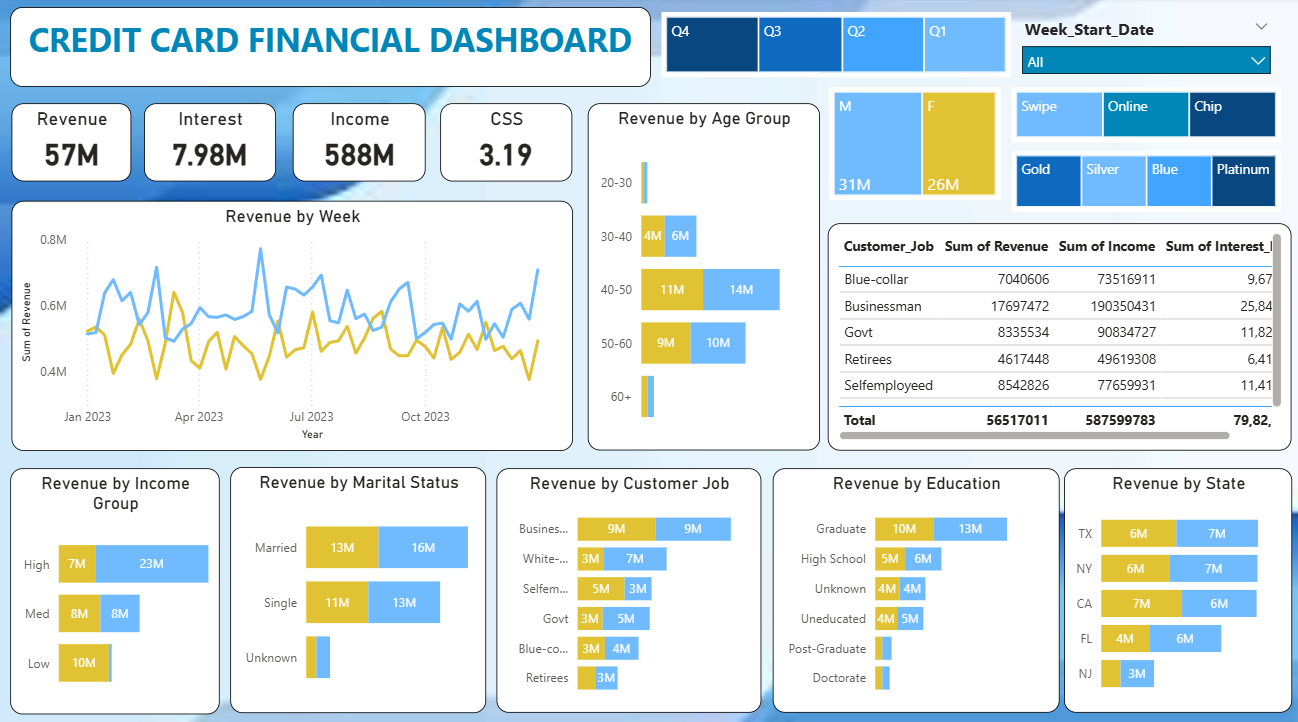

The dashboard page shown, as its layout file describes it:
{"tool":"powerbi","page":{"name":"CC Customer","canvas":[1280,720],"ordinal":1},"visuals":[{"type":"textbox","box":[11.4,10,628.6,78.6],"z":0},{"type":"barChart","title":" Revenue by Income Group","fields":{"Y":["Sum(ccdb cc_detail.Revenue)"],"Category":["ccdb cust_detail.IncomeGroup"],"Series":["ccdb cust_detail.Gender"]},"box":[11.4,462.9,205.7,241.4],"z":1000},{"type":"tableEx","fields":{"Values":["ccdb cust_detail.Customer_Job","Sum(ccdb cc_detail.Revenue)","Sum(ccdb cust_detail.Income)","Sum(ccdb cc_detail.Interest_Earned)"]},"box":[814,221.9,455.5,223.3],"z":2000},{"type":"card","title":"Revenue","fields":{"Values":["Sum(ccdb cc_detail.Revenue)"]},"box":[11.8,104.3,117.6,76.4],"z":3000},{"type":"card","title":"Income","fields":{"Values":["Sum(ccdb cust_detail.Income)"]},"box":[288,104.3,130.8,76.4],"z":4000},{"type":"card","title":"CSS","fields":{"Values":["Avg(ccdb cust_detail.Cust_Satisfaction_Score)"]},"box":[433.5,104.3,129.3,76.4],"z":5000},{"type":"card","title":" Interest","fields":{"Values":["Sum(ccdb cc_detail.Interest_Earned)"]},"box":[142.5,104.3,129.3,76.4],"z":6000},{"type":"slicer","fields":{"Values":["ccdb cc_detail.Week_Start_Date"]},"box":[993.3,14.7,264.5,89.6],"z":7000},{"type":"treemap","fields":{"Group":["ccdb cc_detail.Qtr"],"Values":["Avg(ccdb cc_detail.Client_Num)"]},"box":[650,14.3,342.9,64.3],"z":8000},{"type":"treemap","fields":{"Values":["Avg(ccdb cc_detail.Client_Num)"],"Group":["ccdb cc_detail.Use_Chip"]},"box":[993.3,88.2,264.5,54.4],"z":9000},{"type":"treemap","fields":{"Group":["ccdb cc_detail.Card_Category"],"Values":["Avg(ccdb cc_detail.Client_Num)"]},"box":[993.3,151.3,264.5,60.2],"z":10000},{"type":"lineChart","title":" Revenue by Week","fields":{"Y":["Sum(ccdb cc_detail.Revenue)"],"Series":["ccdb cust_detail.Gender"],"Category":["ccdb cc_detail.Week_Start_Date.Variation.Date Hierarchy.Year","ccdb cc_detail.Week_Start_Date.Variation.Date Hierarchy.Month","ccdb cc_detail.Week_Start_Date.Variation.Date Hierarchy.Day"]},"box":[11.8,199.8,551,245.4],"z":11000},{"type":"treemap","fields":{"Group":["ccdb cust_detail.Gender"],"Values":["Sum(ccdb cc_detail.Revenue)"]},"box":[814.3,88.6,168.6,111.4],"z":12000},{"type":"barChart","title":" Revenue by Age Group","fields":{"Y":["Sum(ccdb cc_detail.Revenue)"],"Category":["ccdb cust_detail.AgeGroup"],"Series":["ccdb cust_detail.Gender"]},"box":[577.5,104.3,227.8,340.9],"z":13000},{"type":"barChart","title":" Revenue by Customer Job","fields":{"Y":["Sum(ccdb cc_detail.Revenue)"],"Series":["ccdb cust_detail.Gender"],"Category":["ccdb cust_detail.Customer_Job"]},"box":[488.6,462.9,260,240],"z":14000},{"type":"barChart","title":" Revenue by Education","fields":{"Y":["Sum(ccdb cc_detail.Revenue)"],"Category":["ccdb cust_detail.Education_Level"],"Series":["ccdb cust_detail.Gender"]},"box":[760,462.9,281.4,240],"z":15000},{"type":"barChart","title":" Revenue by State","fields":{"Y":["Sum(ccdb cc_detail.Revenue)"],"Category":["ccdb cust_detail.State_cd"],"Series":["ccdb cust_detail.Gender"]},"box":[1045.7,462.9,224.3,240],"z":16000},{"type":"barChart","title":" Revenue by Marital Status","fields":{"Y":["Sum(ccdb cc_detail.Revenue)"],"Category":["ccdb cust_detail.Marital_Status"],"Series":["ccdb cust_detail.Gender"]},"box":[227.1,461.4,251.4,241.4],"z":17000}]}

Visuals, with their boxes in screenshot pixels (x1, y1, x2, y2), scaled from the page's 1280x720 canvas onto the 1298x722 screenshot:
textbox: (12,10,649,89)
" Revenue by Income Group" barChart: (12,464,220,706)
tableEx - ccdb cust_detail.Customer_Job x Sum(ccdb cc_detail.Revenue): (825,223,1287,446)
"Revenue" card: (12,105,131,181)
"Income" card: (292,105,425,181)
"CSS" card: (440,105,571,181)
" Interest" card: (145,105,276,181)
slicer - ccdb cc_detail.Week_Start_Date: (1007,15,1275,105)
treemap - ccdb cc_detail.Qtr x Avg(ccdb cc_detail.Client_Num): (659,14,1007,79)
treemap - Avg(ccdb cc_detail.Client_Num) x ccdb cc_detail.Use_Chip: (1007,88,1275,143)
treemap - ccdb cc_detail.Card_Category x Avg(ccdb cc_detail.Client_Num): (1007,152,1275,212)
" Revenue by Week" lineChart: (12,200,571,446)
treemap - ccdb cust_detail.Gender x Sum(ccdb cc_detail.Revenue): (826,89,997,201)
" Revenue by Age Group" barChart: (586,105,817,446)
" Revenue by Customer Job" barChart: (495,464,759,705)
" Revenue by Education" barChart: (771,464,1056,705)
" Revenue by State" barChart: (1060,464,1288,705)
" Revenue by Marital Status" barChart: (230,463,485,705)
